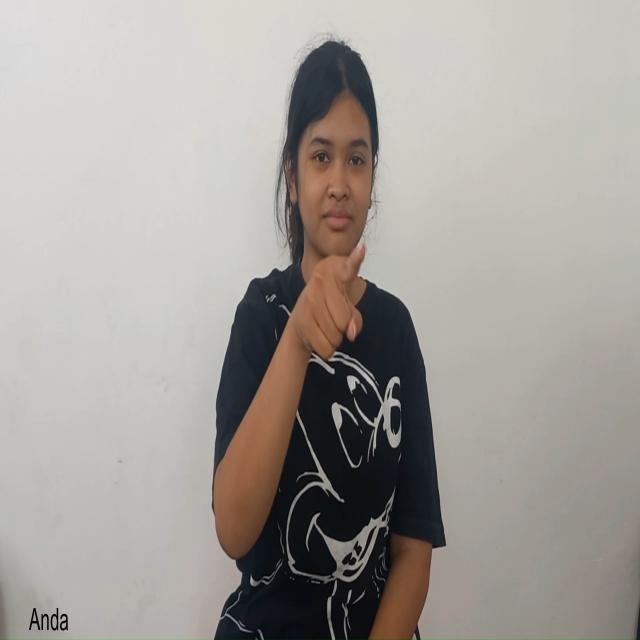Anda -BISINDO-: (266, 234, 397, 449)
